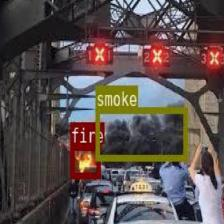fire: (69, 144, 100, 177)
smoke: (95, 106, 186, 160)
